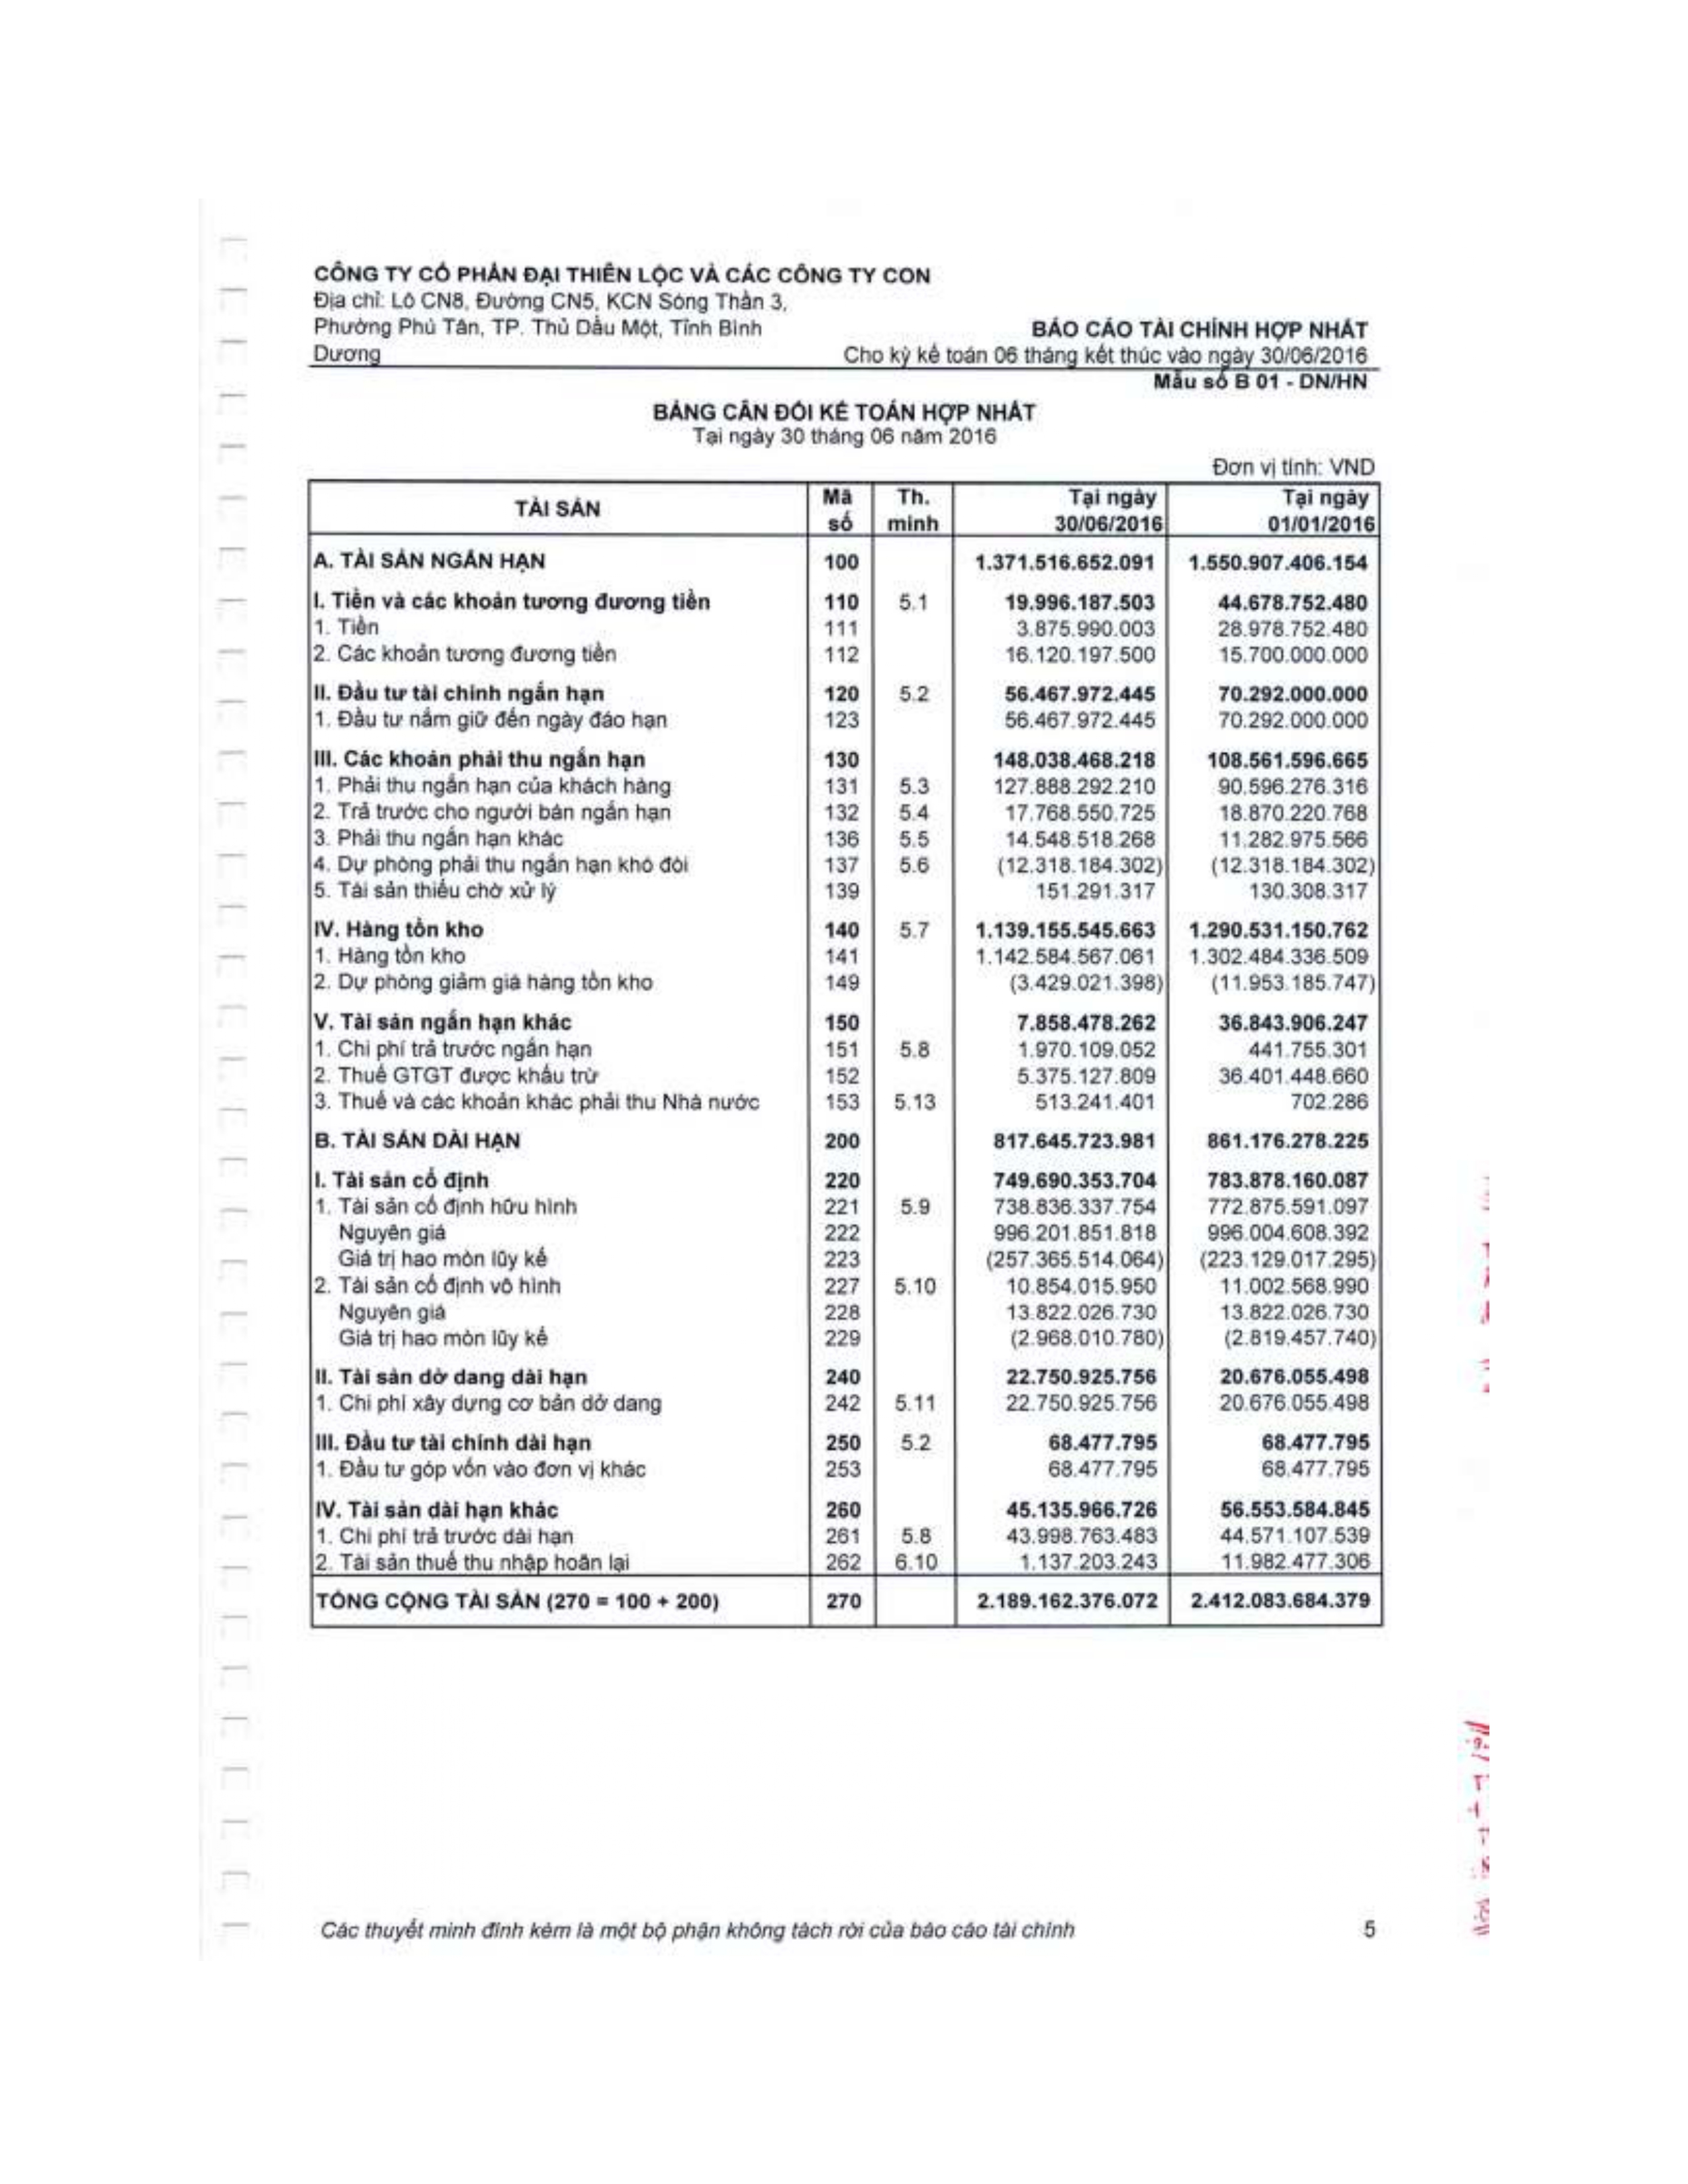table: (294, 473, 1394, 1640)
table column: (296, 473, 754, 1640), (926, 473, 1153, 1640), (1163, 473, 1381, 1640), (832, 473, 913, 1640), (759, 473, 823, 1640)
table column header: (294, 482, 1394, 523)
table row: (294, 480, 1394, 521), (294, 1010, 1394, 1049), (294, 1060, 1394, 1099), (294, 532, 1394, 567), (294, 569, 1394, 604), (294, 1603, 1394, 1627), (294, 670, 1394, 691), (294, 693, 1394, 714), (294, 732, 1394, 753), (294, 796, 1394, 817), (294, 755, 1394, 775), (294, 776, 1394, 796), (294, 819, 1394, 838), (294, 840, 1394, 860), (294, 885, 1394, 904), (294, 906, 1394, 925), (294, 970, 1394, 989), (294, 1138, 1394, 1158), (294, 1179, 1394, 1198), (294, 1200, 1394, 1220), (294, 1221, 1394, 1241), (294, 1243, 1394, 1262), (294, 1264, 1394, 1283), (294, 1285, 1394, 1305), (294, 1308, 1394, 1328), (294, 1351, 1394, 1370), (294, 1372, 1394, 1392), (294, 1413, 1394, 1432), (294, 1434, 1394, 1454), (294, 1455, 1394, 1475), (294, 1477, 1394, 1496), (294, 1521, 1394, 1540), (294, 1542, 1394, 1562), (294, 606, 1394, 624), (294, 628, 1394, 645), (294, 948, 1394, 966), (294, 991, 1394, 1009), (294, 1119, 1394, 1136), (294, 1565, 1394, 1583)
